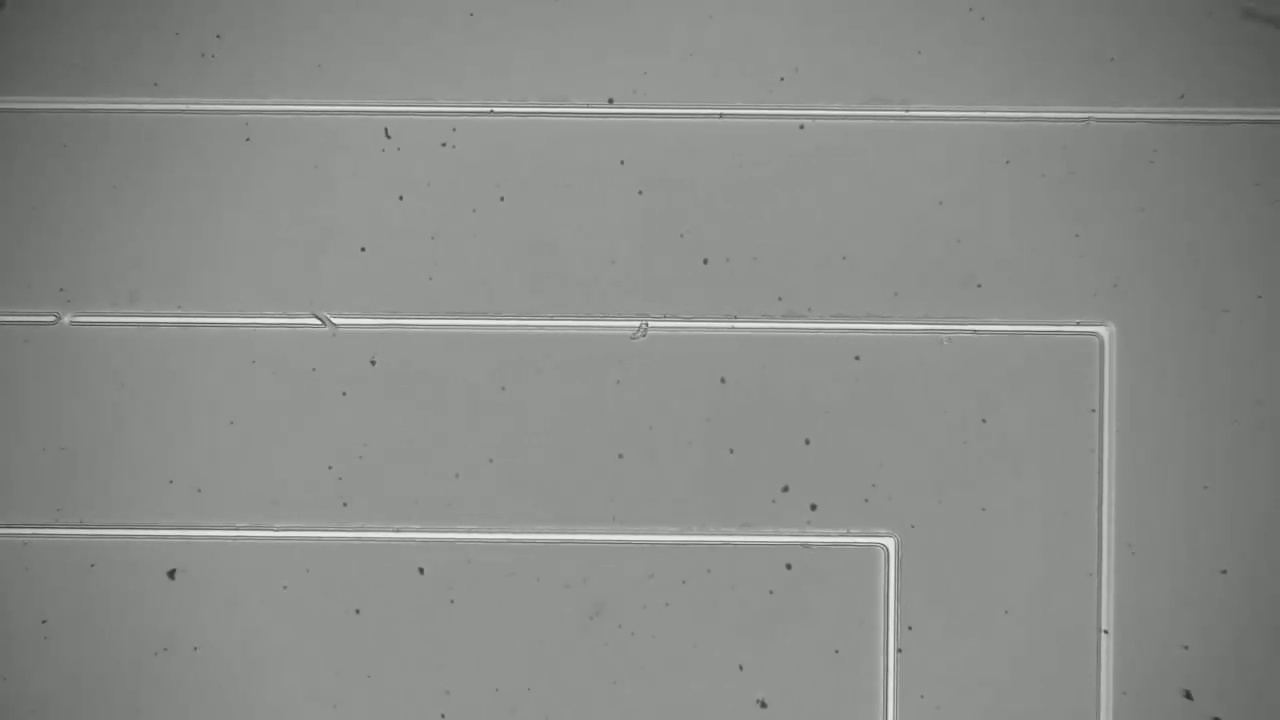open: (41, 295, 86, 340), (302, 297, 343, 341)
stains_enbedded: (624, 307, 660, 351)
